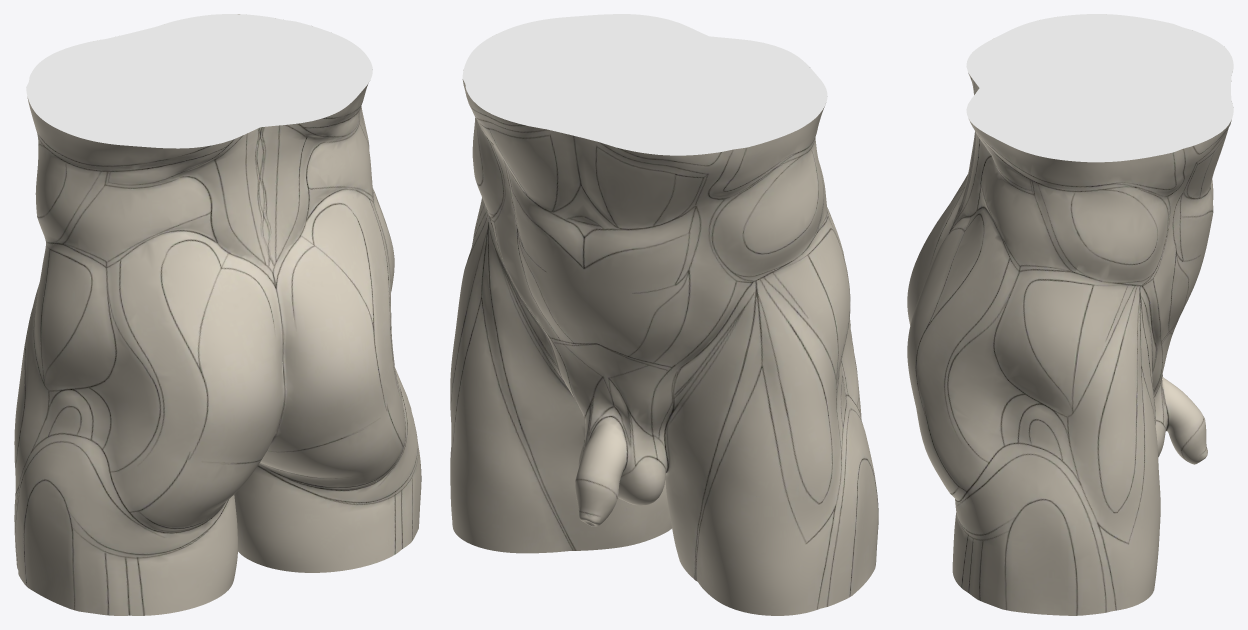
File: 人物其它_20260324191719_opt.glb
3 renders of one model, left to right at view 1: azimuth 30°, elevation 25°; view 2: azimuth 150°, elevation 25°; view 3: azimuth 270°, elevation 25°, orthographic. The views are drawn at different scales.
Visible parts, largest first — view 1: BlockOut_Shell, BlockOut_Cap; view 2: BlockOut_Shell, BlockOut_Cap; view 3: BlockOut_Shell, BlockOut_Cap.
Boxes of the visible parts, x1,y1,x2,y2 form: BlockOut_Shell: [14, 14, 421, 615]; BlockOut_Cap: [26, 14, 372, 148]; BlockOut_Shell: [450, 70, 878, 615]; BlockOut_Cap: [462, 14, 827, 155]; BlockOut_Shell: [907, 38, 1231, 615]; BlockOut_Cap: [966, 14, 1233, 162].
Bounding box in the file's own units: 0.3747 × 0.4306 × 0.2893.
2 materials, 1 textured.
